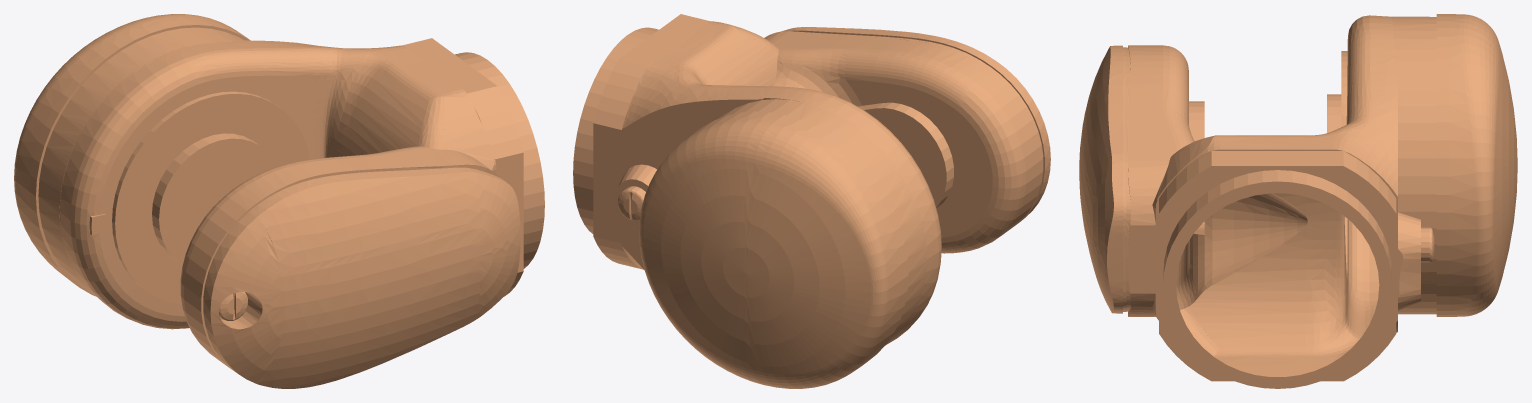
3 views of the same model, side by side, from view 1: azimuth 30°, elevation 25°; view 2: azimuth 150°, elevation 25°; view 3: azimuth 270°, elevation 25° (orthographic). The views are drawn at different scales.
Parts seen in each view (by area): view 1: link_05; view 2: link_05; view 3: link_05.
Part boxes in pixels (x1=…): link_05: x1=14, y1=14, x2=544, y2=388; link_05: x1=573, y1=14, x2=1050, y2=388; link_05: x1=1079, y1=14, x2=1517, y2=388.
Bounding box in the file's own units: 0.304 × 0.3065 × 0.212.
